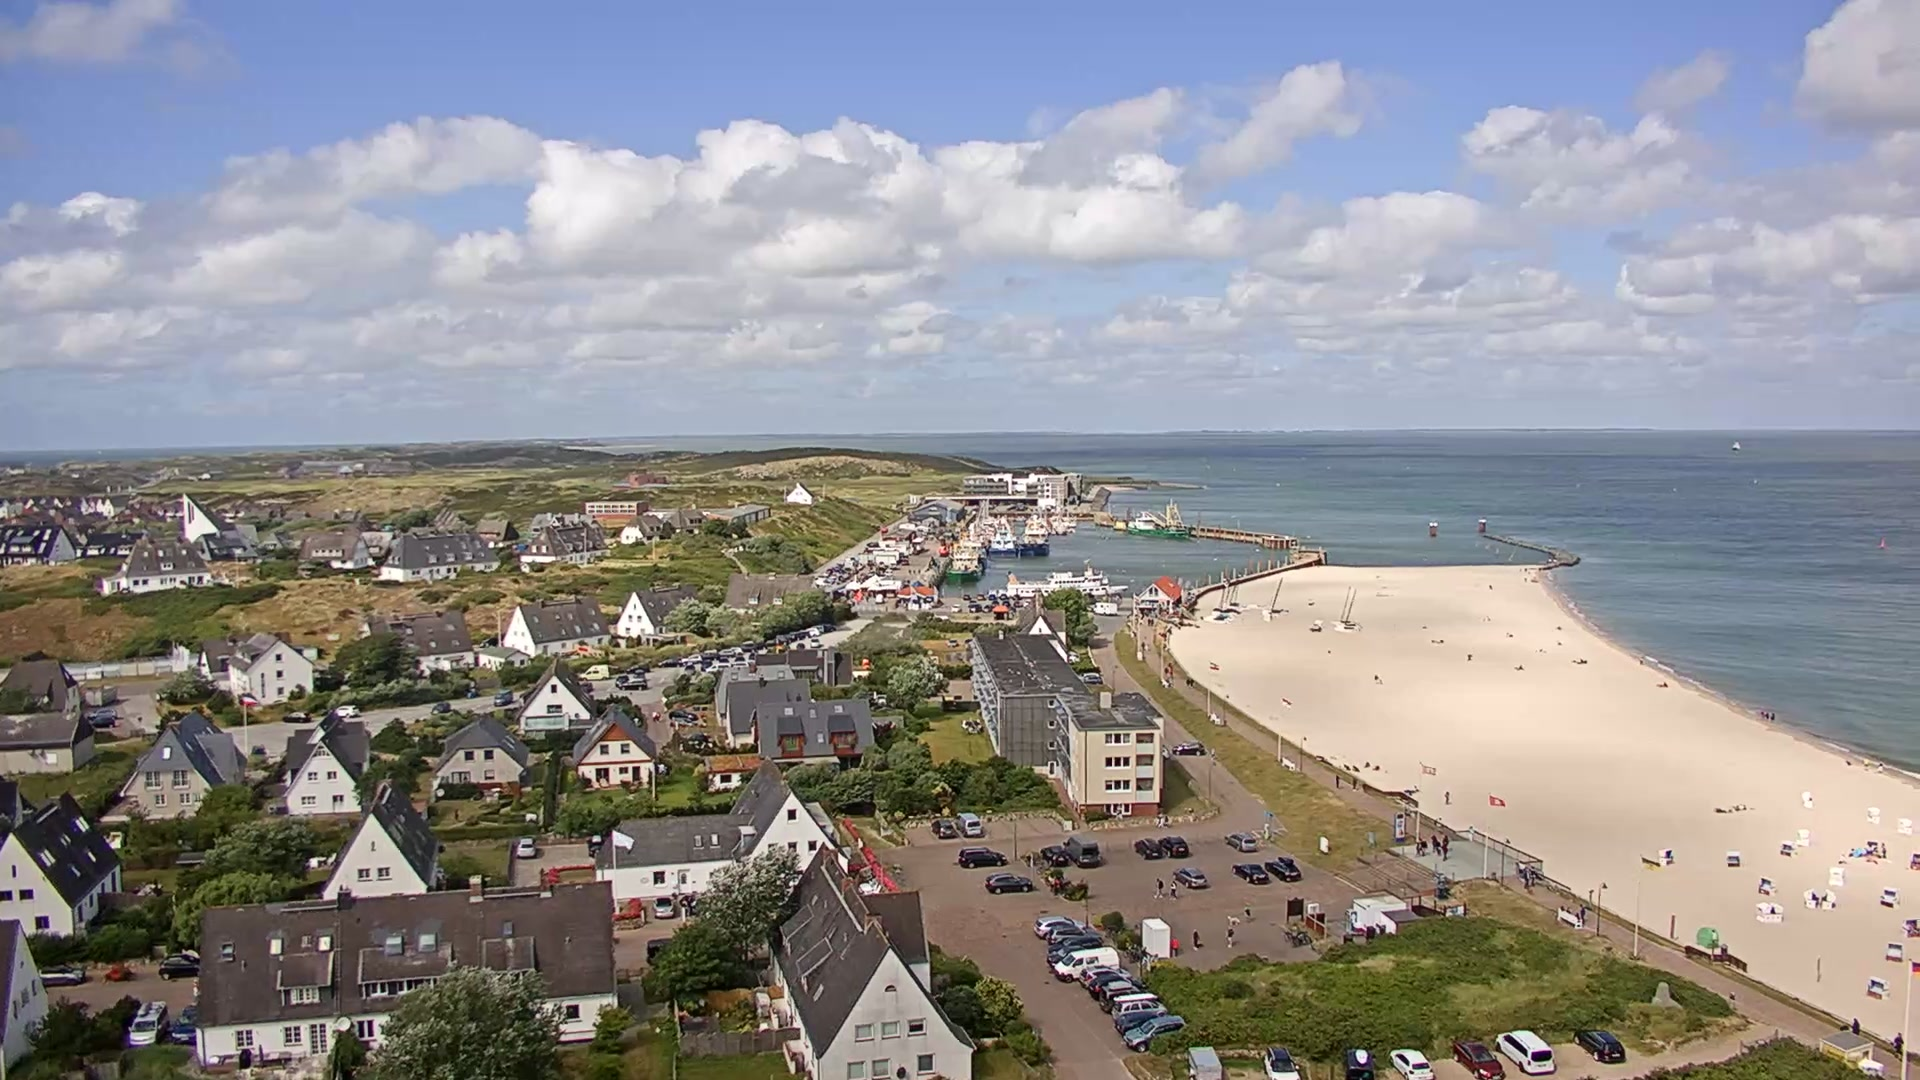human: (1422, 834, 1438, 855), (1893, 1031, 1904, 1059), (1153, 876, 1164, 898), (1170, 934, 1180, 957), (1430, 833, 1440, 854), (1441, 834, 1449, 860), (1416, 836, 1426, 856), (1522, 866, 1530, 889), (1850, 1016, 1860, 1034), (1192, 928, 1200, 949), (1579, 903, 1587, 925), (1514, 860, 1524, 875), (1226, 926, 1234, 946), (1170, 880, 1177, 899), (1054, 876, 1061, 895), (1244, 905, 1251, 922), (1881, 841, 1888, 858), (1530, 866, 1536, 886), (1047, 874, 1054, 891), (1444, 790, 1451, 804), (1163, 666, 1170, 679), (1877, 762, 1884, 773), (1575, 910, 1580, 924), (1140, 641, 1146, 652), (1352, 776, 1357, 789), (1864, 756, 1870, 769), (1467, 652, 1473, 661), (1770, 712, 1776, 721), (1336, 774, 1340, 787), (1374, 672, 1379, 682), (1151, 616, 1155, 626), (1185, 677, 1190, 687), (1765, 712, 1770, 720), (1147, 617, 1151, 626), (1760, 710, 1764, 719), (1190, 678, 1194, 686), (908, 567, 912, 573), (912, 567, 916, 574), (917, 567, 921, 573)
land: (1495, 1029, 1554, 1074), (1051, 946, 1121, 983), (1122, 1013, 1184, 1053), (1451, 1040, 1504, 1080), (1573, 1028, 1626, 1065), (127, 999, 169, 1045), (1111, 991, 1168, 1018), (1086, 975, 1143, 1000), (1389, 1047, 1434, 1079), (1098, 981, 1143, 1012), (1032, 914, 1087, 939), (930, 812, 982, 838), (1264, 1045, 1300, 1080), (1077, 962, 1130, 987), (158, 954, 200, 982), (36, 961, 85, 986), (1063, 836, 1101, 868), (171, 1002, 199, 1043), (1113, 1011, 1161, 1035), (985, 872, 1031, 895), (1264, 854, 1302, 883), (958, 846, 1009, 867), (1343, 1047, 1374, 1079), (1047, 925, 1099, 943), (1047, 945, 1089, 966), (1047, 935, 1101, 951), (645, 936, 674, 965), (1158, 834, 1189, 858), (1231, 862, 1268, 884), (1223, 831, 1258, 852), (1172, 866, 1207, 888), (1133, 837, 1163, 860), (1040, 845, 1070, 867), (579, 663, 611, 682), (652, 895, 674, 917), (516, 836, 536, 858), (1173, 742, 1206, 755), (669, 715, 698, 729), (586, 833, 604, 856), (281, 711, 311, 724), (1090, 600, 1116, 615), (89, 707, 117, 719), (618, 676, 647, 688), (668, 708, 697, 720), (656, 657, 684, 669), (334, 704, 359, 718), (705, 661, 731, 674), (493, 688, 512, 706), (89, 716, 115, 728), (625, 661, 650, 672), (477, 636, 498, 647), (431, 701, 450, 715), (1082, 672, 1103, 684), (686, 653, 703, 664), (737, 641, 755, 652), (615, 674, 629, 687), (773, 633, 789, 643), (783, 632, 796, 643), (699, 658, 712, 670), (954, 811, 960, 835), (967, 603, 981, 613), (805, 626, 820, 636), (716, 647, 734, 655), (728, 645, 742, 654), (1023, 598, 1034, 609), (700, 648, 716, 656), (684, 660, 695, 671), (950, 602, 962, 612), (795, 630, 809, 639), (823, 623, 836, 631), (729, 658, 748, 665), (808, 637, 819, 647), (746, 647, 756, 659), (866, 541, 879, 548), (631, 668, 645, 677), (981, 602, 990, 612), (874, 593, 882, 603), (813, 624, 823, 632), (990, 599, 999, 606), (733, 653, 743, 661), (1012, 601, 1022, 608), (716, 655, 728, 661), (976, 593, 985, 600), (1012, 594, 1020, 600), (962, 593, 971, 600), (988, 593, 995, 600), (999, 593, 1007, 600), (1002, 601, 1010, 607)
sea: (990, 555, 1129, 599), (1127, 497, 1190, 539), (952, 516, 988, 569), (987, 514, 1017, 559), (944, 548, 983, 583), (1019, 513, 1048, 556), (1211, 584, 1239, 616), (1053, 483, 1068, 535), (1344, 589, 1358, 630), (1269, 577, 1283, 615), (1339, 585, 1353, 623), (1226, 579, 1241, 607), (1877, 536, 1885, 550), (1732, 441, 1741, 452), (1067, 524, 1075, 532)
